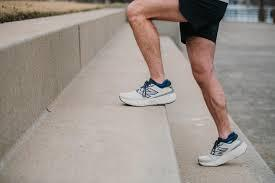NB logo: (140, 85, 161, 100)
